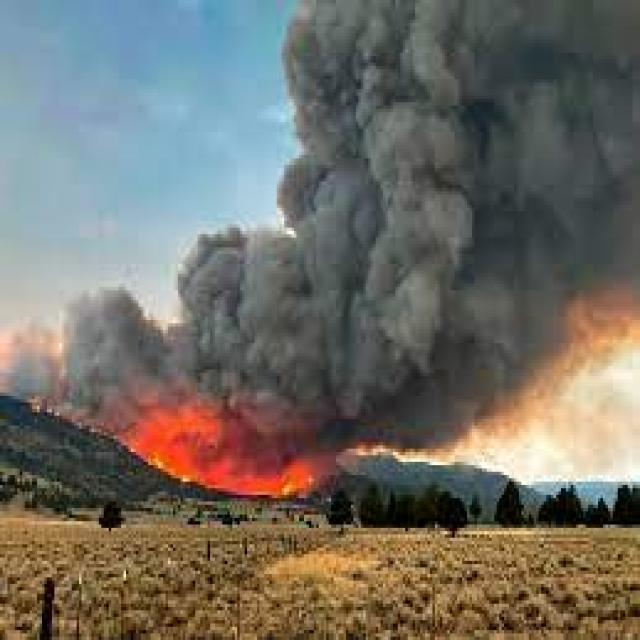Fire: (478, 328, 640, 494), (138, 404, 332, 510)
Smoke: (293, 1, 640, 304), (90, 276, 546, 396)
